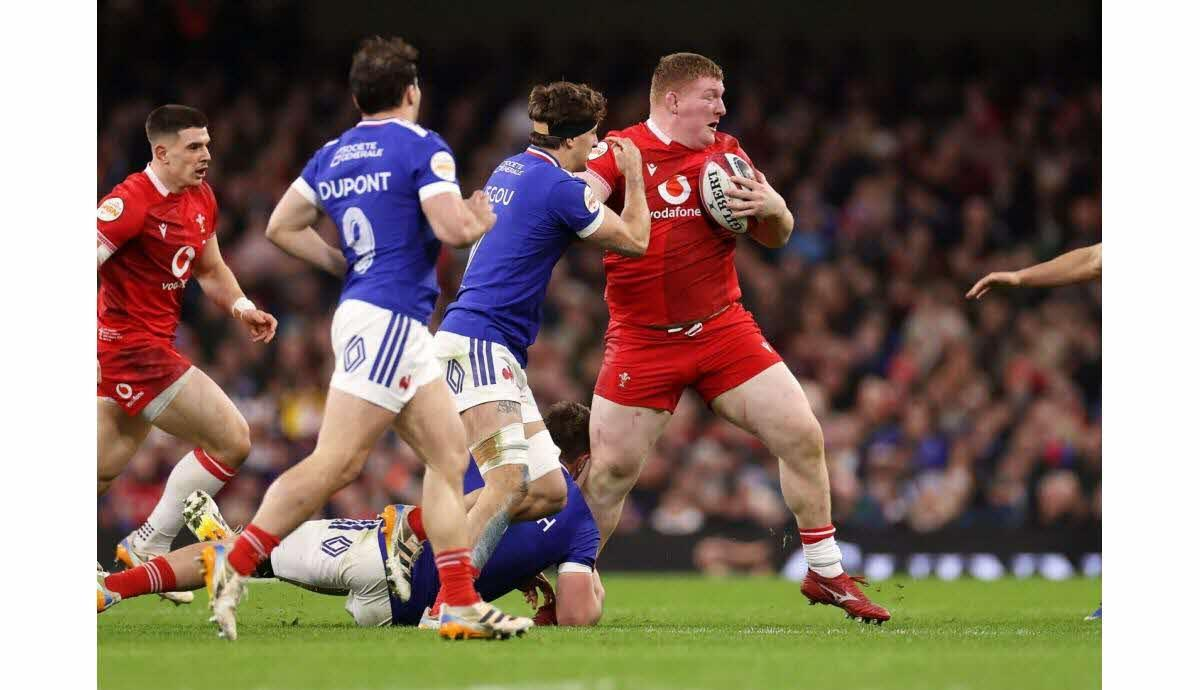ballon_rugby: (697, 150, 759, 236)
